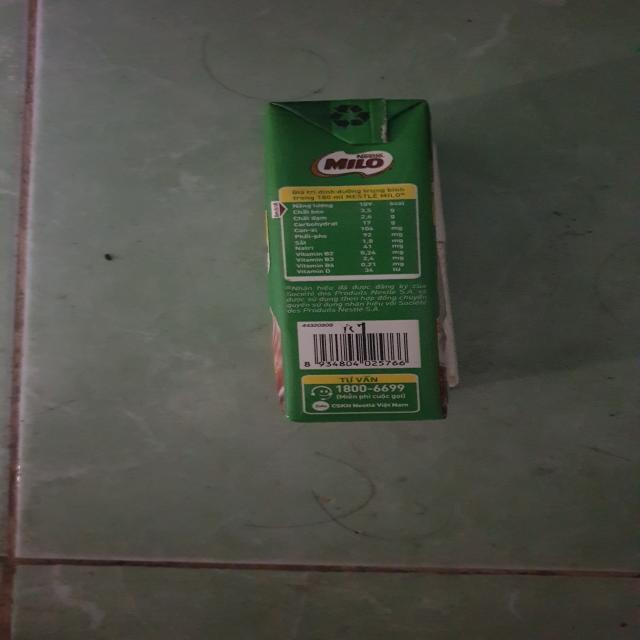Milo: (252, 93, 478, 431)
